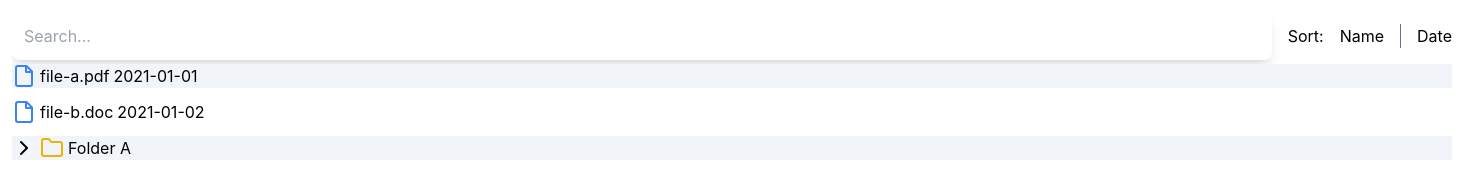
SearchComponent › filters items based on search input
Type "Folder" into the search field with placeholder "Search..." at (642,36), box [12,12,1272,60]
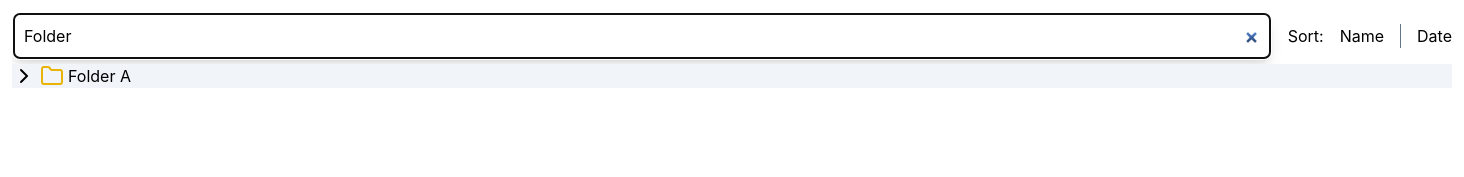
Check: the list item reads "Folder A", box [12,64,131,88]
Check: the number of list items is 1, box [12,64,1452,88]
